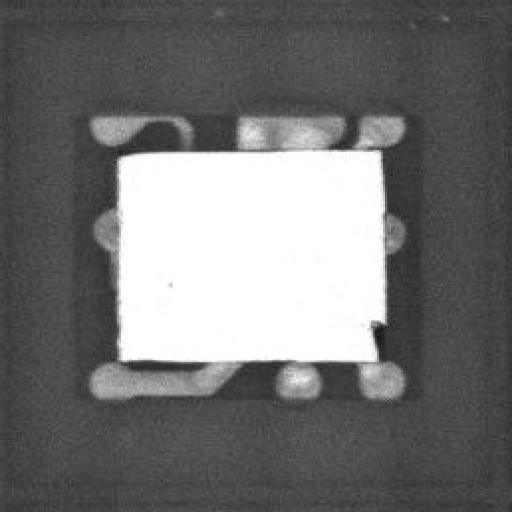DIE_BROKEN: (363, 315, 385, 358)
